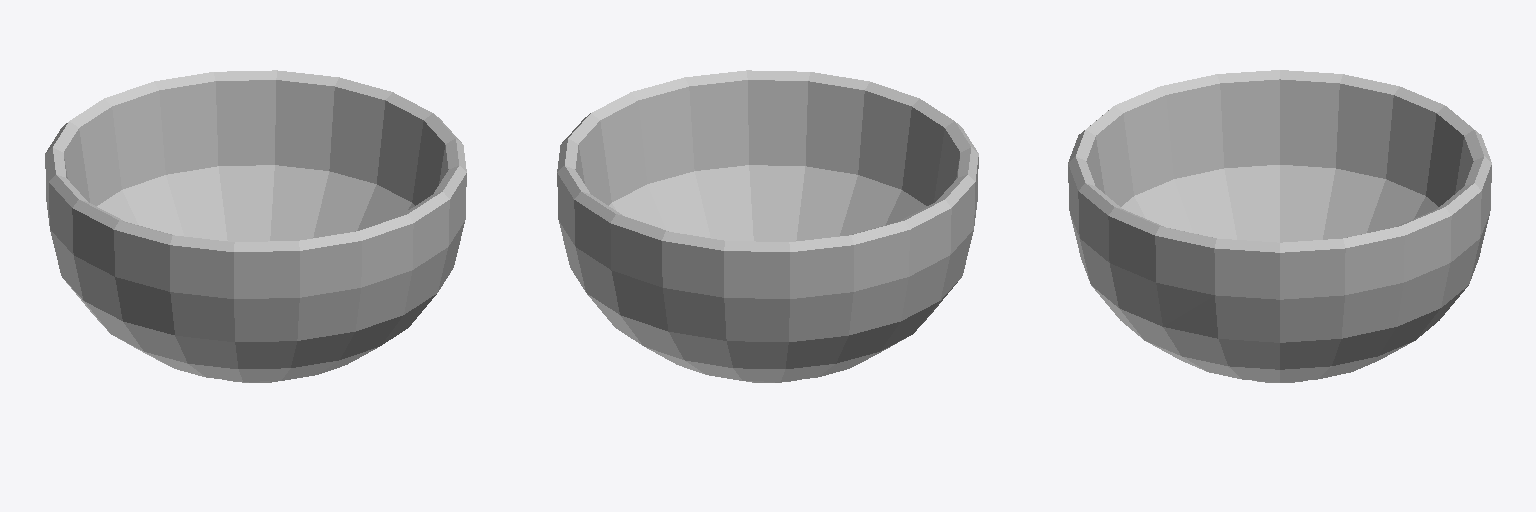
3 renders of one model, left to right at view 1: azimuth 30°, elevation 25°; view 2: azimuth 150°, elevation 25°; view 3: azimuth 270°, elevation 25°, orthographic.
Visible parts, largest first — view 1: bw; view 2: bw; view 3: bw.
Boxes of the visible parts, x1,y1,x2,y2 form: bw: [45, 70, 466, 382]; bw: [557, 70, 978, 382]; bw: [1068, 70, 1491, 382].
Size of the model in its own units: 0.0845 by 0.0438 by 0.0845.